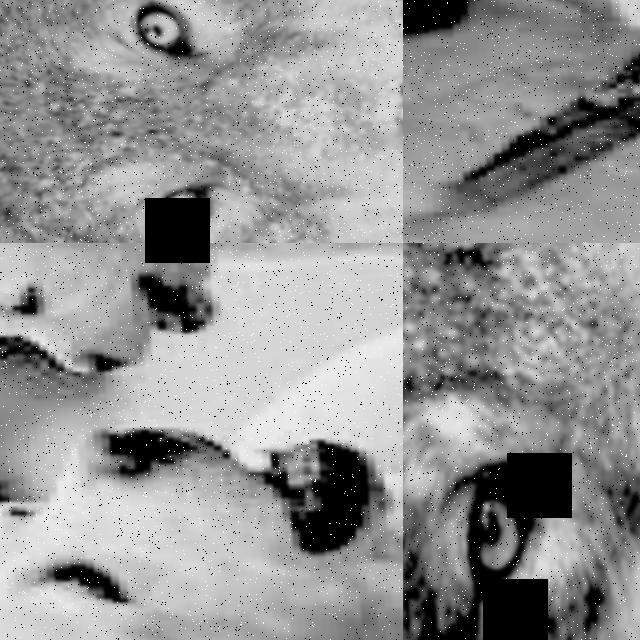dog: (0, 243, 403, 640), (0, 243, 403, 457), (403, 0, 640, 243)
wolf: (0, 0, 403, 243), (403, 243, 640, 640)
